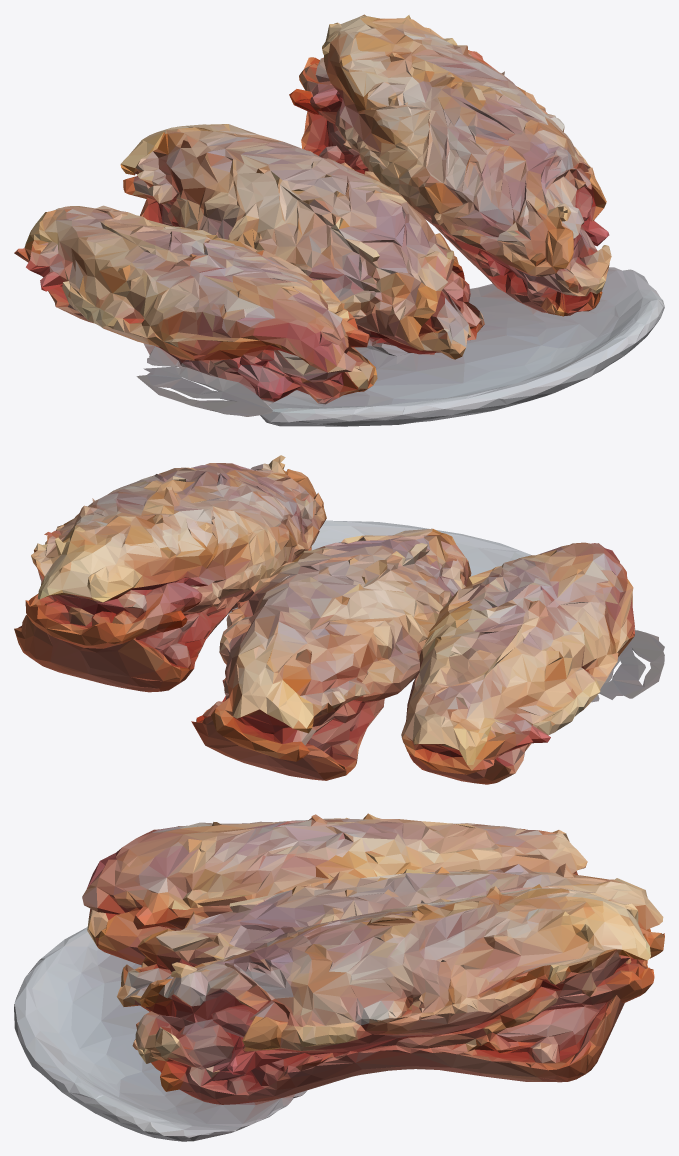
File: wings.glb
3 renders of one model, top to bottom at view 1: azimuth 30°, elevation 25°; view 2: azimuth 150°, elevation 25°; view 3: azimuth 270°, elevation 25°, orthographic. The views are drawn at different scales.
Visible parts, largest first — view 1: geometry_0; view 2: geometry_0; view 3: geometry_0.
Boxes of the visible parts, bbox=[...] form: geometry_0: bbox=[14, 14, 664, 426]; geometry_0: bbox=[14, 455, 664, 784]; geometry_0: bbox=[14, 813, 664, 1141].
Size of the model in its own units: 0.1631 by 0.0601 by 0.17.
1 material, 1 textured.
